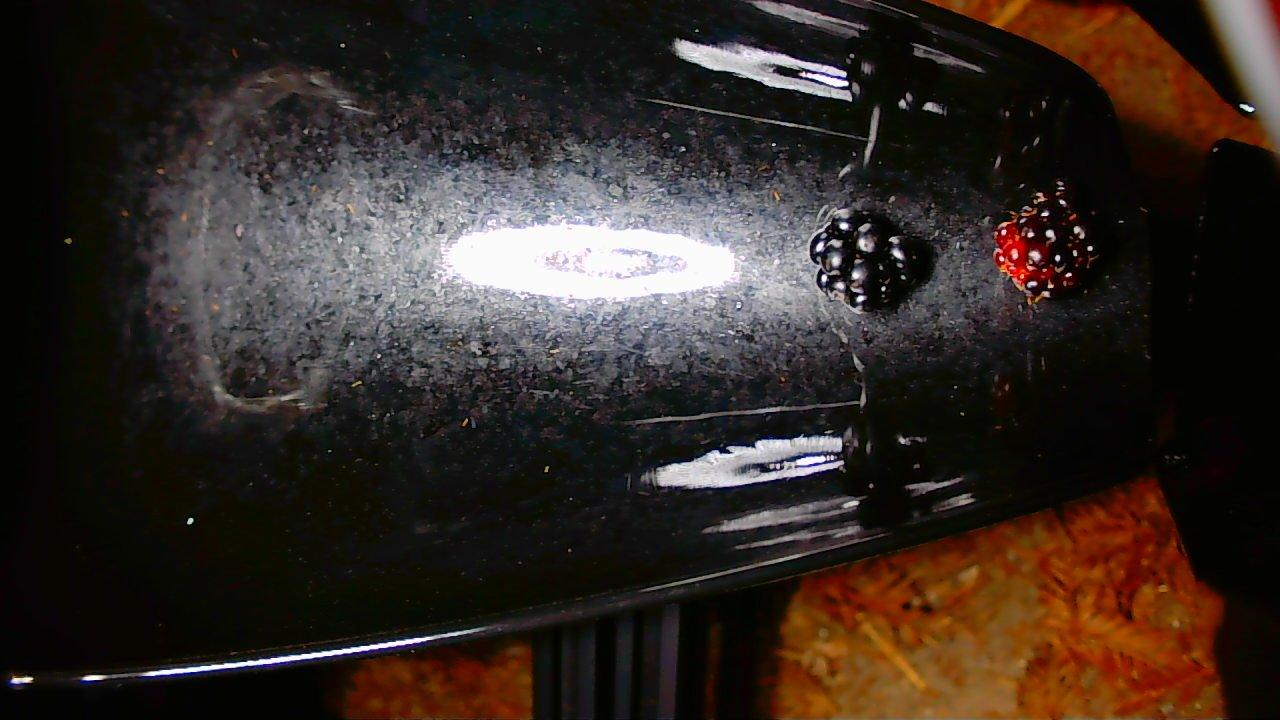berry: (993, 180, 1100, 301), (809, 210, 926, 312)
